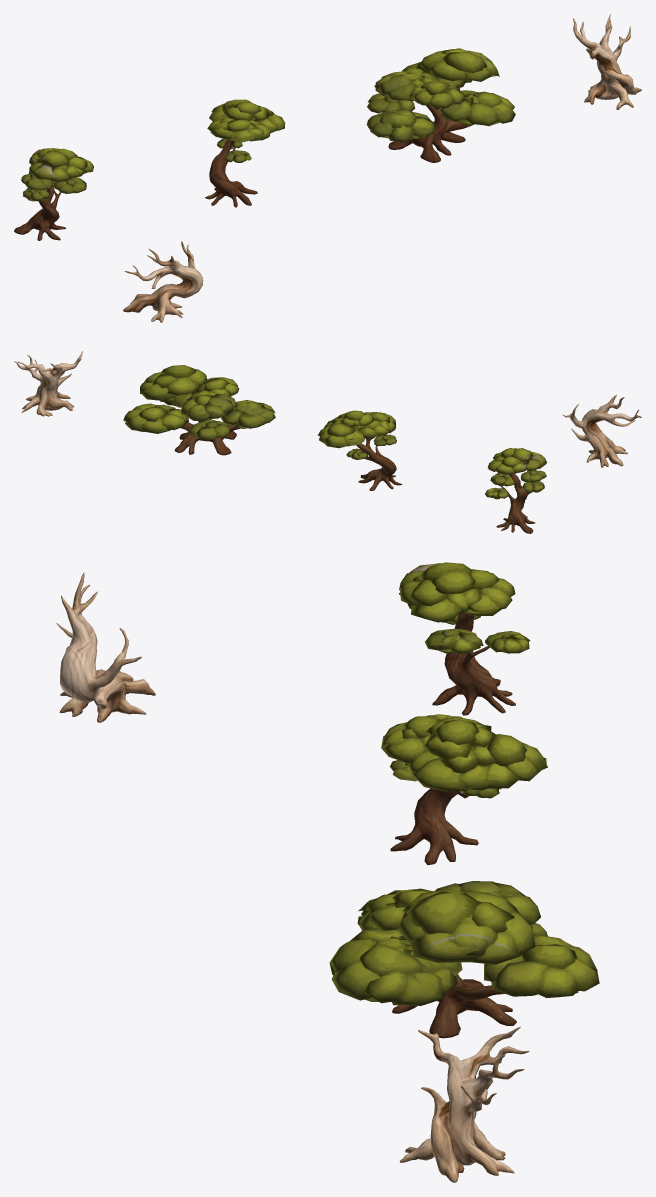
Rendered from bones_pack_03_trees_clean.glb.
The picture shows the model from 3 angles, top to bottom: view 1: azimuth 30°, elevation 25°; view 2: azimuth 150°, elevation 25°; view 3: azimuth 270°, elevation 25°; orthographic projection. The views are drawn at different scales.
Parts seen in each view (by area): view 1: tree_acacia_c, tree_acacia_b, tree_acacia_a, tree_dead_desert_b, tree_dead_desert_a; view 2: tree_acacia_c, tree_acacia_b, tree_acacia_a, tree_dead_desert_b, tree_dead_desert_a; view 3: tree_acacia_c, tree_acacia_b, tree_acacia_a, tree_dead_desert_a, tree_dead_desert_b.
Boxes of the visible parts, left/top/right/bottom form: tree_acacia_c: left=366, top=48, right=515, bottom=162; tree_acacia_b: left=205, top=99, right=285, bottom=207; tree_acacia_a: left=14, top=148, right=93, bottom=240; tree_dead_desert_b: left=123, top=241, right=203, bottom=322; tree_dead_desert_a: left=573, top=14, right=641, bottom=109; tree_acacia_c: left=123, top=365, right=275, bottom=455; tree_acacia_b: left=317, top=410, right=402, bottom=490; tree_acacia_a: left=485, top=448, right=546, bottom=533; tree_dead_desert_b: left=562, top=394, right=641, bottom=467; tree_dead_desert_a: left=14, top=351, right=82, bottom=416; tree_acacia_c: left=329, top=881, right=599, bottom=1038; tree_acacia_b: left=381, top=714, right=547, bottom=865; tree_acacia_a: left=399, top=562, right=530, bottom=715; tree_dead_desert_a: left=400, top=1026, right=529, bottom=1182; tree_dead_desert_b: left=56, top=572, right=155, bottom=722.
Size of the model in its own units: 27.47 by 3.5 by 12.28.
1 material, 1 textured.
